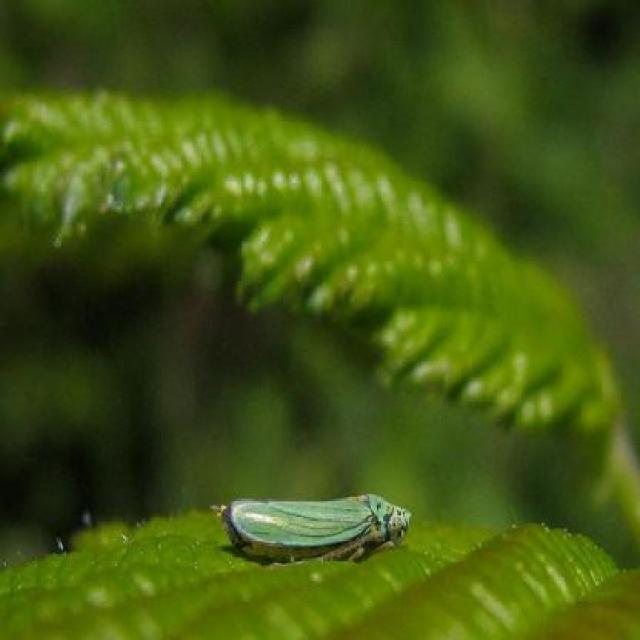green-leafhopper: (223, 494, 411, 566)
